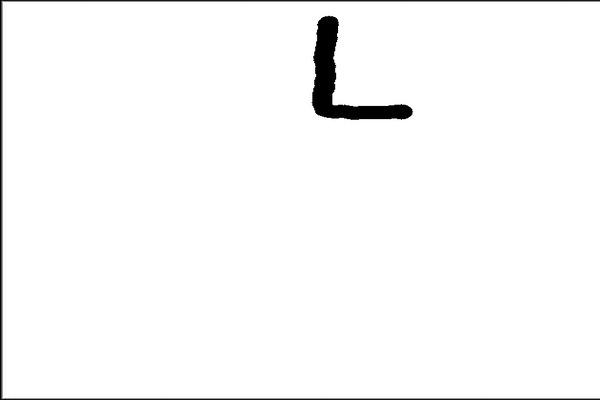L: (304, 6, 416, 128)
